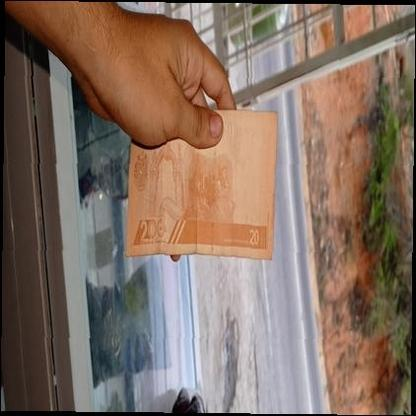twenty-back-vef: (125, 108, 277, 260)
